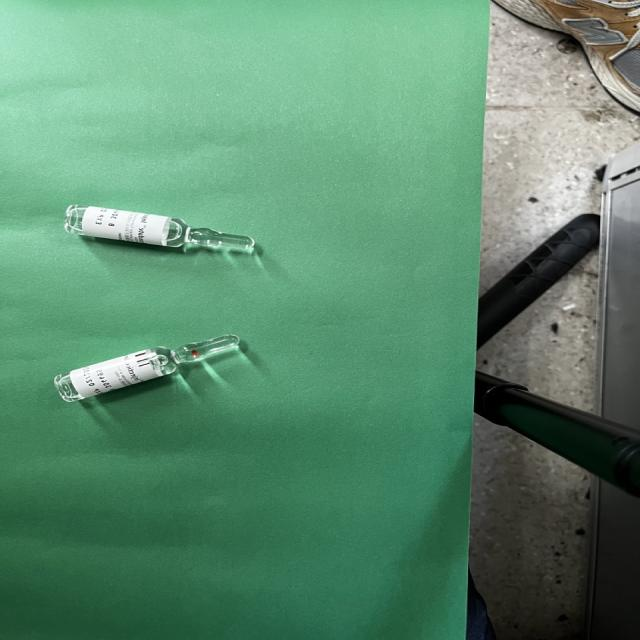Ampoules: (55, 334, 240, 402), (65, 205, 255, 252)
